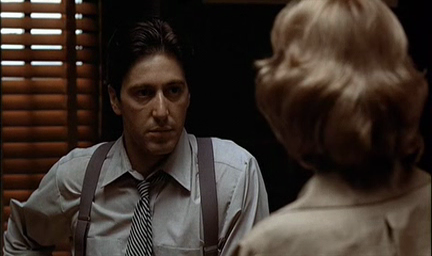face: (124, 63, 190, 155)
mcu: (1, 1, 432, 256)
ots: (226, 1, 430, 256)
person: (2, 19, 270, 256)
